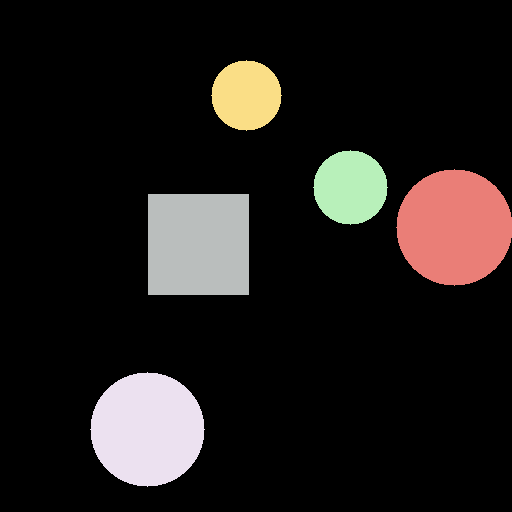circle: (396, 169, 511, 285), (90, 372, 204, 486), (313, 150, 387, 224), (211, 60, 281, 130)
square: (148, 194, 248, 294)
